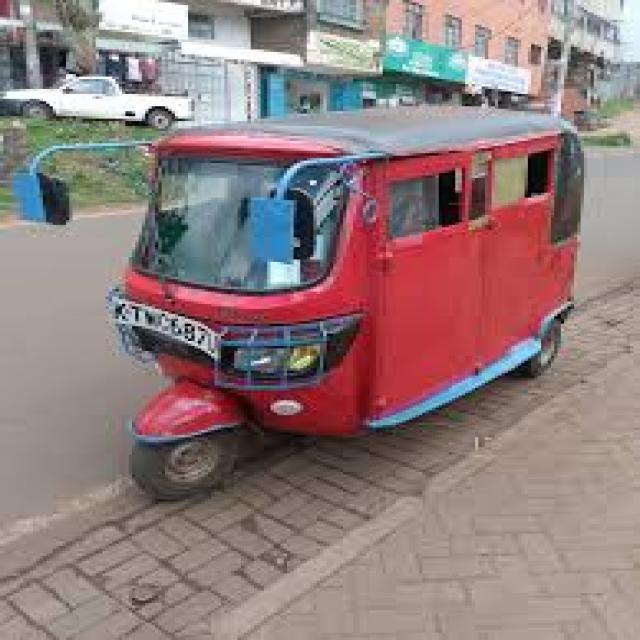tuktuk: (0, 3, 640, 542)
